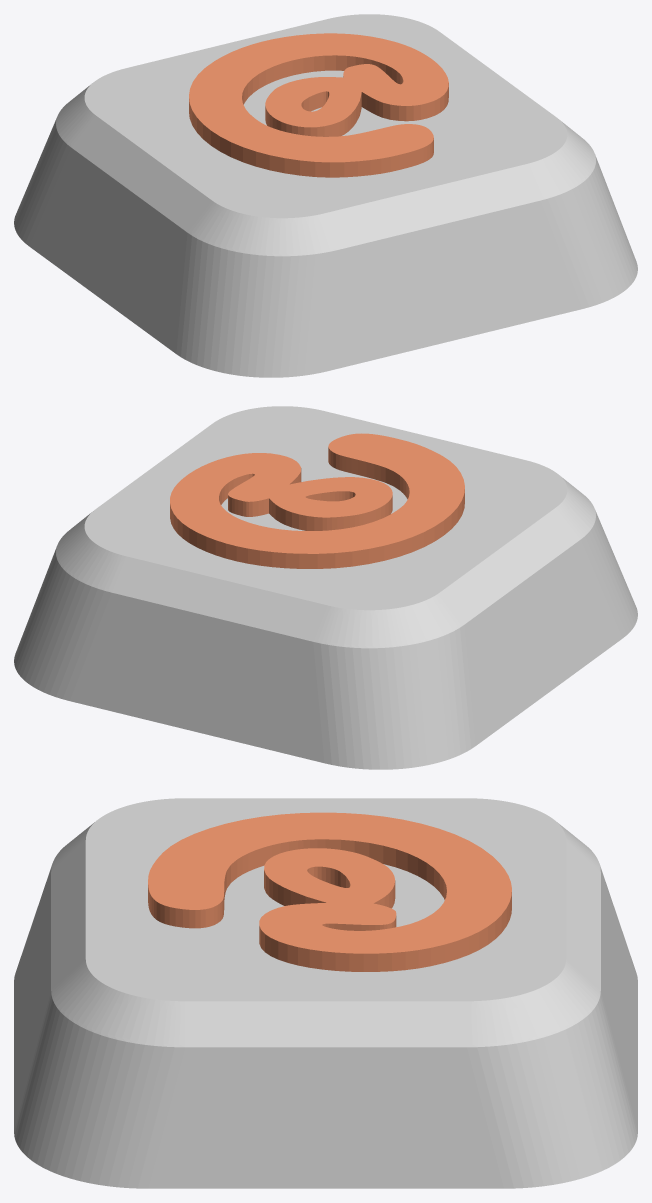
The model's file is cap-at.glb.
3 views of the same model, one above another, from view 1: azimuth 30°, elevation 25°; view 2: azimuth 150°, elevation 25°; view 3: azimuth 270°, elevation 25° (orthographic). The views are drawn at different scales.
Visible parts, largest first — view 1: cap_0, glyph_1; view 2: cap_0, glyph_1; view 3: cap_0, glyph_1.
Part boxes in pixels (x1=…): cap_0: x1=14, y1=14, x2=637, y2=377; glyph_1: x1=189, y1=33, x2=448, y2=177; cap_0: x1=14, y1=406, x2=637, y2=769; glyph_1: x1=170, y1=433, x2=464, y2=568; cap_0: x1=14, y1=798, x2=637, y2=1188; glyph_1: x1=148, y1=812, x2=511, y2=971.
Size of the model in its own units: 18 by 5.59 by 18.
